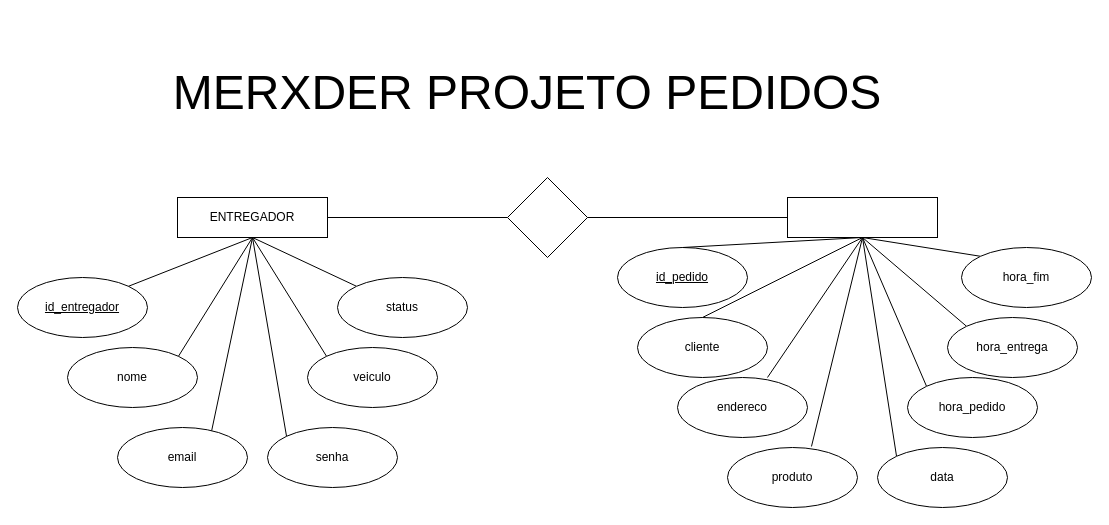
This 1109x525 diagram has some shape labels left out. Each missing label, with the centre of its shape:
"PEDIDOS" belongs at (862,217).
"POSSUI" belongs at (547,217).
